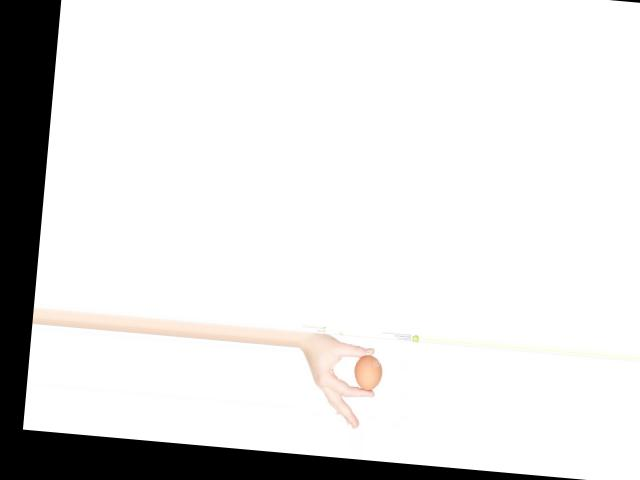egg: (352, 353, 383, 391)
